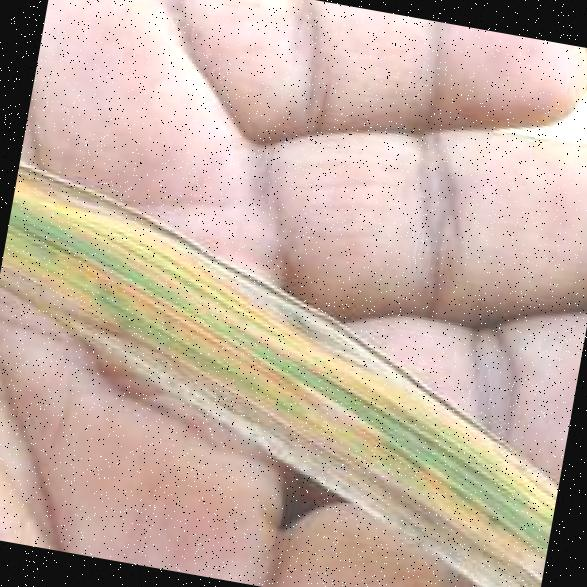Bacteria_Leaf_Blight: (0, 162, 558, 562)
